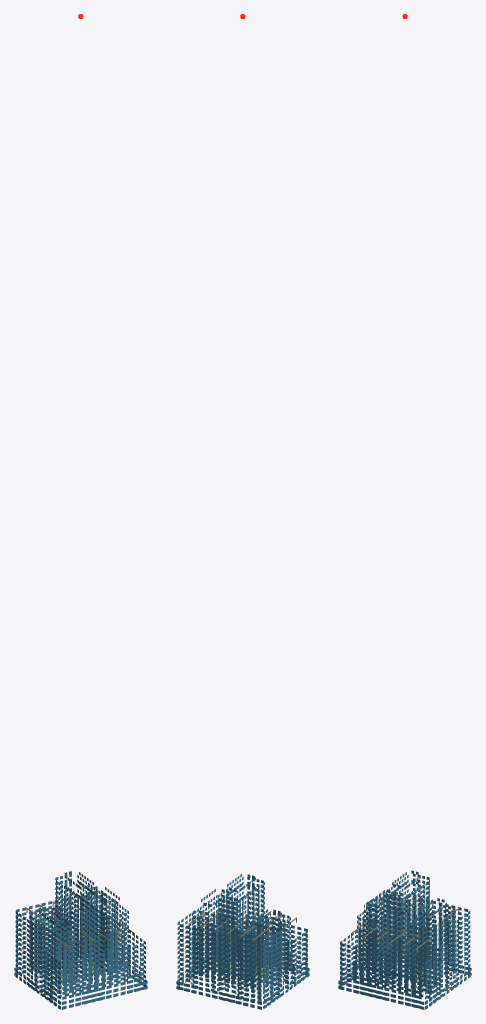
Rendered from Catalog-47.glb.
3 views of the same model, side by side, from view 1: azimuth 30°, elevation 25°; view 2: azimuth 150°, elevation 25°; view 3: azimuth 330°, elevation 25° (orthographic).
Visible parts, largest first — view 1: Metropolis Window Blue (×3), Metropolis Copper; view 2: Metropolis Window Blue (×3), Metropolis Copper; view 3: Metropolis Window Blue (×3), Metropolis Copper.
Boxes of the visible parts, x1,y1,x2,y2 form: Metropolis Window Blue (×3): (14, 871, 147, 1009); Metropolis Copper: (26, 895, 134, 953); Metropolis Window Blue (×3): (176, 874, 309, 1009); Metropolis Copper: (188, 903, 296, 941); Metropolis Window Blue (×3): (338, 870, 471, 1009); Metropolis Copper: (351, 893, 459, 953).
Bounding box in the file's own units: 94.36 × 1001 × 88.36.
